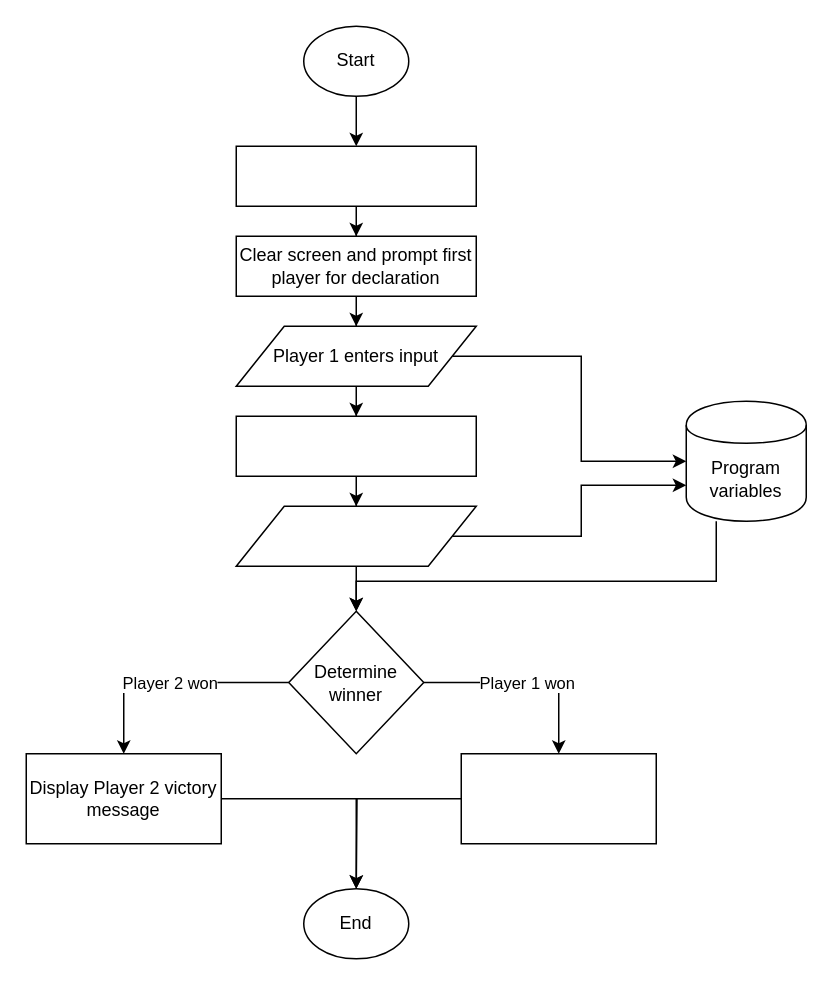
This 833x986 diagram has some shape labels left out. Each missing label, with the centre of its shape:
Clear screen and prompt second player for declaration: (355,445)
Display Player 1 victory message: (558,798)
Player 2 enters input: (355,535)
Print the welcome text and rules of the game: (355,175)
